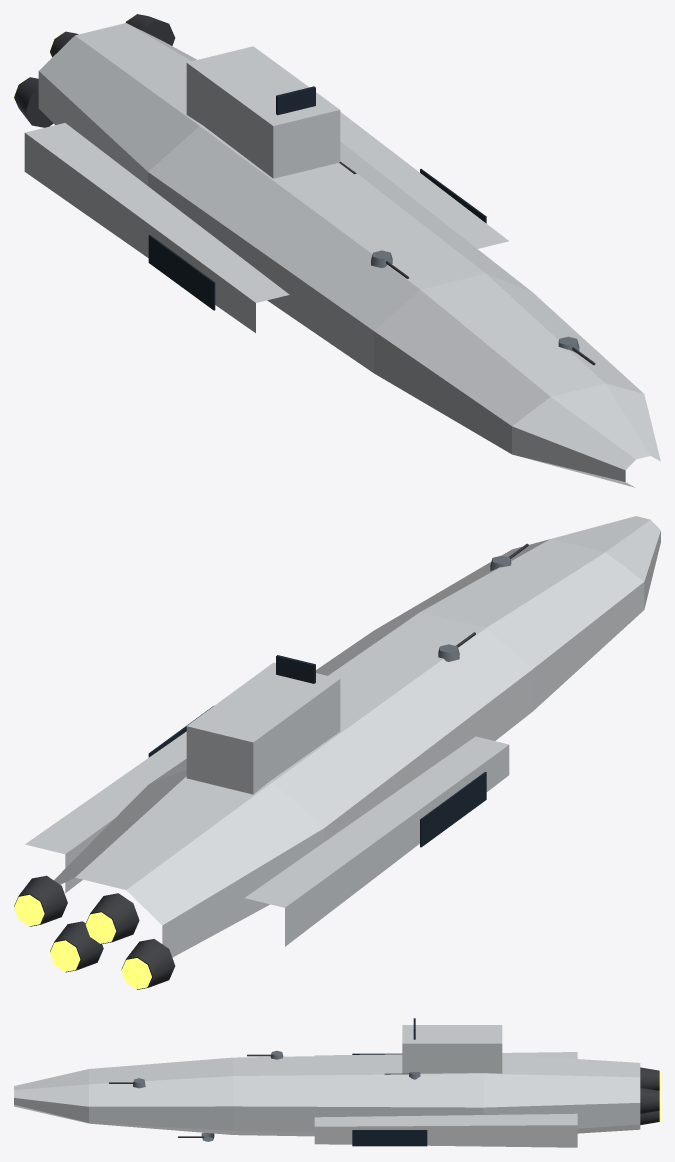
Rendered from space_ship_cruiser_mk1.glb.
3 views of the same model, one above another, from view 1: azimuth 30°, elevation 25°; view 2: azimuth 150°, elevation 25°; view 3: azimuth 270°, elevation 25° (orthographic). The views are drawn at different scales.
Parts seen in each view (by area): view 1: body, hangar_r, engine_0, engine_3; view 2: body, engine_1, hangar_r, engine_0, engine_3, engine_2; view 3: body, hangar_l, engine_3, engine_1, engine_2.
Boxes of the visible parts, x1,y1,x2,y2 form: body: (24, 23, 660, 487); hangar_r: (148, 235, 215, 310); engine_0: (14, 77, 53, 127); engine_3: (125, 14, 175, 45); body: (25, 516, 660, 957); engine_1: (85, 893, 139, 944); hangar_r: (420, 772, 486, 847); engine_0: (121, 939, 175, 989); engine_3: (14, 875, 67, 926); engine_2: (50, 921, 103, 972); body: (14, 1018, 640, 1147); hangar_l: (352, 1130, 427, 1146); engine_3: (640, 1087, 660, 1113); engine_1: (640, 1067, 660, 1090); engine_2: (640, 1110, 660, 1124).
Size of what is drawn, in the model's own units: 18.56 by 12 by 66.12.
